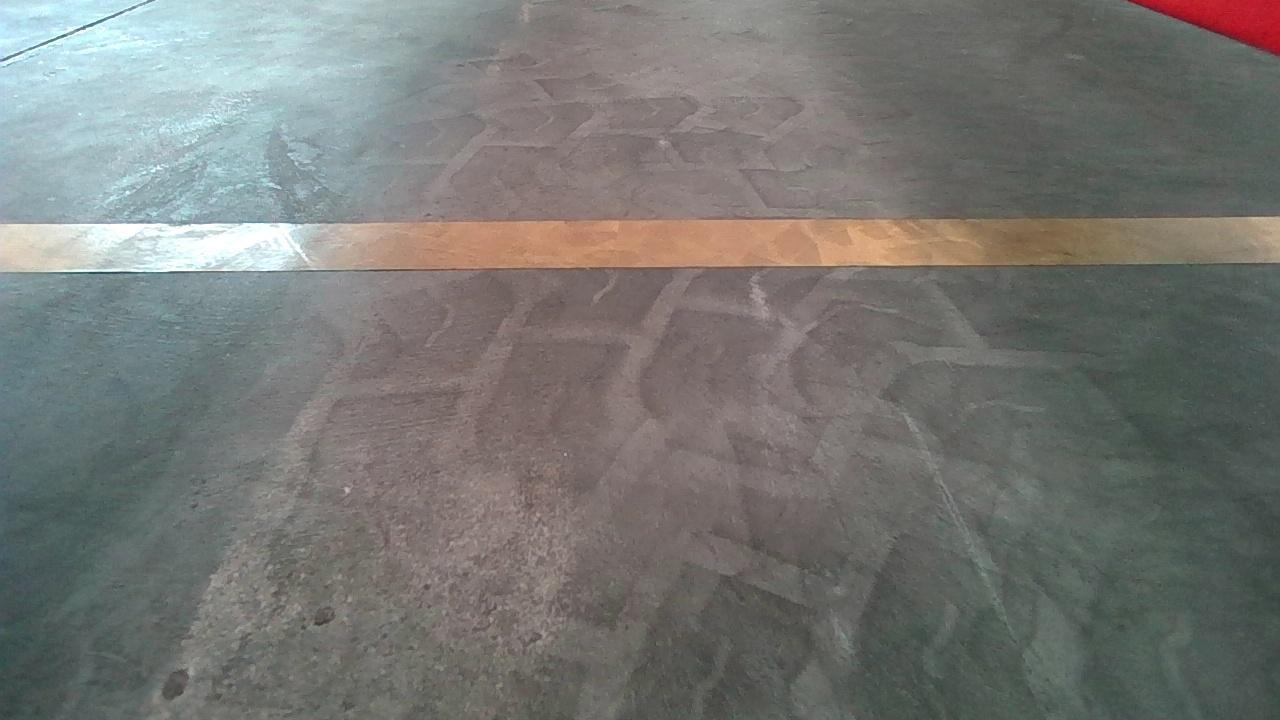yellow_line: (14, 208, 1280, 271)
